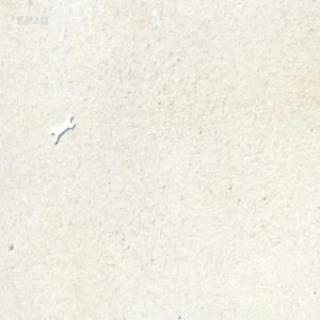Wrenchtrack_idkeyframe: (48, 113, 73, 146)
